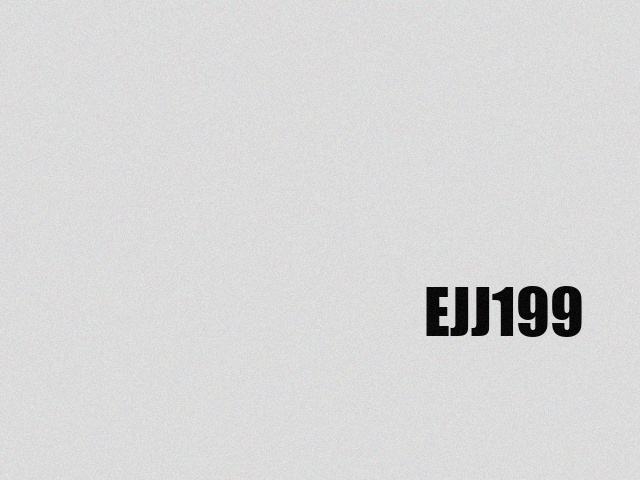OCR_AREA: (420, 282, 588, 341)
